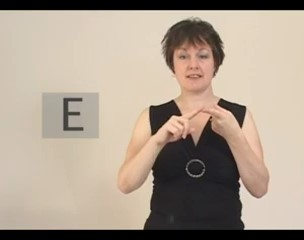E: (154, 100, 241, 146)
